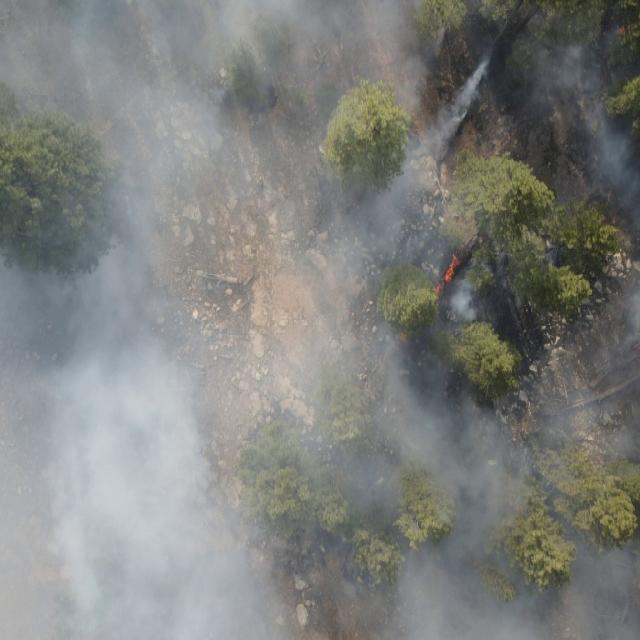fire: (432, 251, 462, 297), (378, 330, 410, 370)
smoke: (0, 0, 640, 640)
